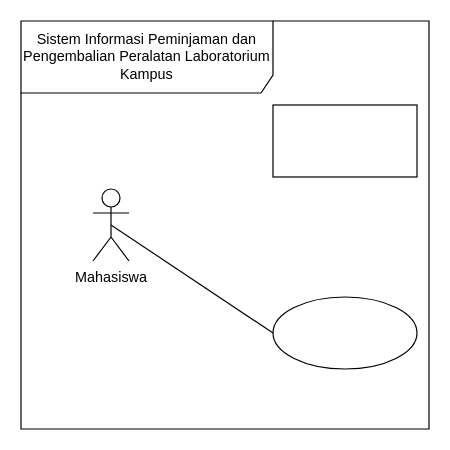
Some shapes in this 450 by 450 pixel diagram are drawn without their labels. The centre of each missing label's shape, as x and y in pixels:
Kelola jadwal kuliah: [344,332]
Lihat jadwal kuliah: [344,140]
